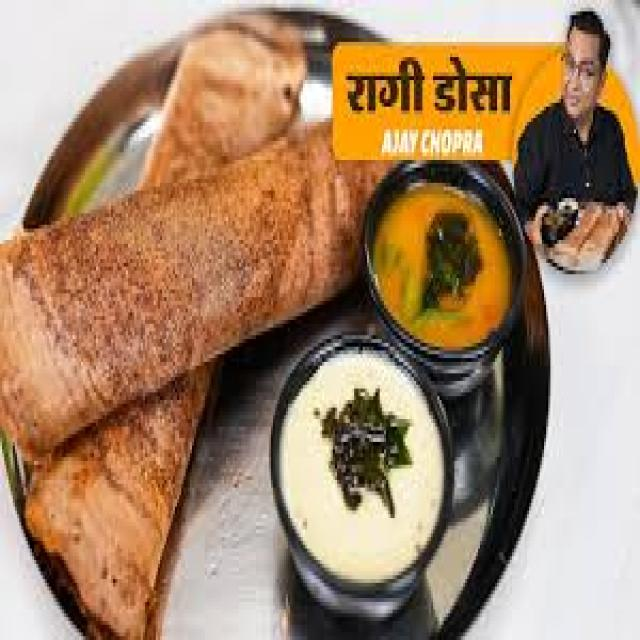DOSA: (0, 113, 381, 470), (27, 356, 218, 628), (150, 29, 301, 150)
